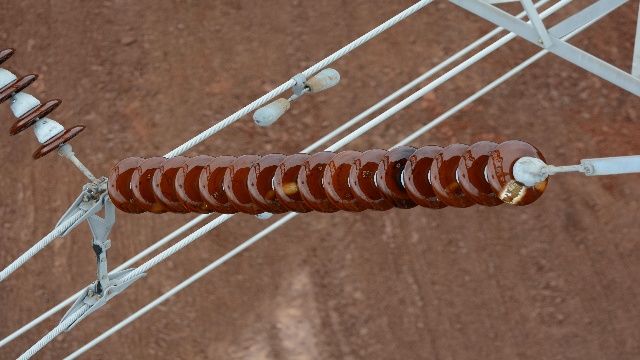insulator_unspecified: (106, 141, 551, 212), (0, 47, 86, 160)
pollution_flashover_local: (499, 181, 526, 206), (536, 176, 555, 194), (277, 181, 298, 196), (149, 202, 165, 215), (262, 188, 276, 200)
